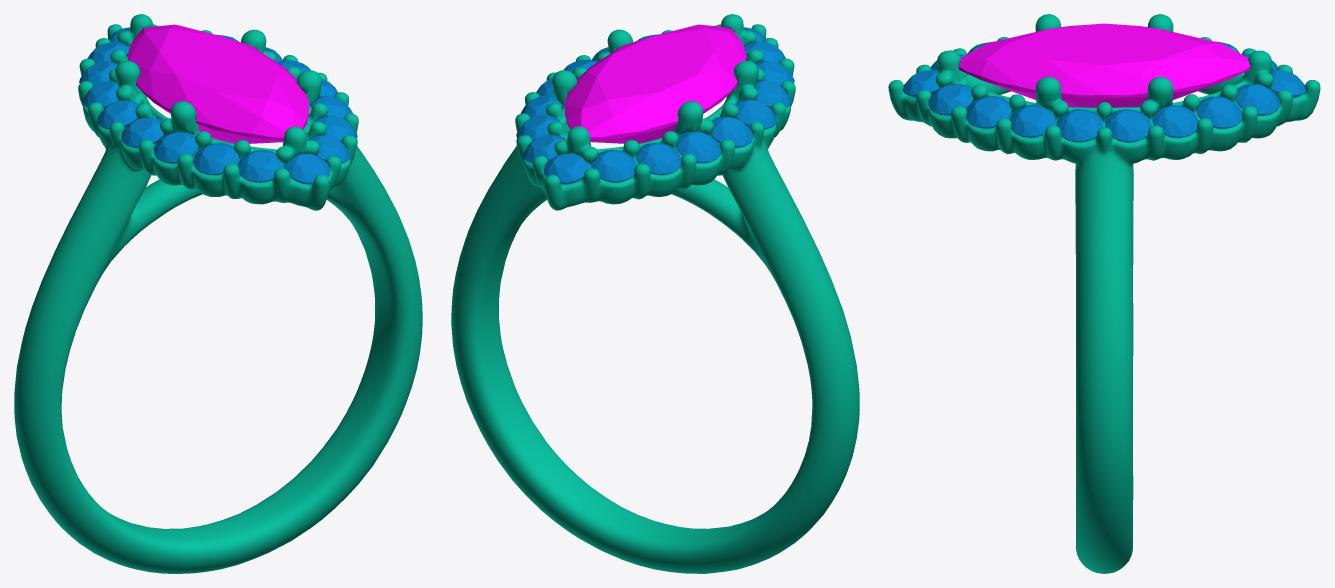
File: BE1BD12R2_MQ_200ct_RENDER.glb
3 renders of one model, left to right at view 1: azimuth 30°, elevation 25°; view 2: azimuth 150°, elevation 25°; view 3: azimuth 270°, elevation 25°, orthographic.
Visible parts, largest first — view 1: Metal 01, CS_Diamond_Marquise, Diamond_Round_Gem_HD.007, Diamond_Round_Gem_HD.006, Diamond_Round_Gem_HD.005, Diamond_Round_Gem_HD.016, Diamond_Round_Gem_HD.004, Diamond_Round_Gem_HD.003, Diamond_Round_Gem_HD.008, Diamond_Round_Gem_HD.002, Diamond_Round_Gem_HD.009, Diamond_Round_Gem_HD.001; view 2: Metal 01, CS_Diamond_Marquise, Diamond_Round_Gem_HD, Diamond_Round_Gem_HD.001, Diamond_Round_Gem_HD.002, Diamond_Round_Gem_HD.017, Diamond_Round_Gem_HD.003, Diamond_Round_Gem_HD.004, Diamond_Round_Gem_HD.015, Diamond_Round_Gem_HD.005, Diamond_Round_Gem_HD.014, Diamond_Round_Gem_HD.006 (+1 smaller); view 3: Metal 01, CS_Diamond_Marquise, Diamond_Round_Gem_HD.011, Diamond_Round_Gem_HD.012, Diamond_Round_Gem_HD.010, Diamond_Round_Gem_HD.013, Diamond_Round_Gem_HD.009, Diamond_Round_Gem_HD.014, Diamond_Round_Gem_HD.008, Diamond_Round_Gem_HD.015, Diamond_Round_Gem_HD.016, Diamond_Round_Gem_HD.017.
Boxes of the visible parts, x1=… form: Metal 01: x1=14, y1=14, x2=422, y2=573; CS_Diamond_Marquise: x1=128, y1=24, x2=308, y2=143; Diamond_Round_Gem_HD.007: x1=237, y1=150, x2=283, y2=182; Diamond_Round_Gem_HD.006: x1=193, y1=143, x2=238, y2=175; Diamond_Round_Gem_HD.005: x1=154, y1=132, x2=198, y2=163; Diamond_Round_Gem_HD.016: x1=284, y1=153, x2=330, y2=184; Diamond_Round_Gem_HD.004: x1=121, y1=117, x2=163, y2=148; Diamond_Round_Gem_HD.003: x1=97, y1=100, x2=139, y2=129; Diamond_Round_Gem_HD.008: x1=307, y1=135, x2=350, y2=163; Diamond_Round_Gem_HD.002: x1=83, y1=81, x2=118, y2=108; Diamond_Round_Gem_HD.009: x1=314, y1=115, x2=357, y2=141; Diamond_Round_Gem_HD.001: x1=79, y1=61, x2=117, y2=86; Metal 01: x1=451, y1=14, x2=859, y2=573; CS_Diamond_Marquise: x1=565, y1=24, x2=745, y2=143; Diamond_Round_Gem_HD: x1=591, y1=150, x2=636, y2=182; Diamond_Round_Gem_HD.001: x1=636, y1=142, x2=681, y2=175; Diamond_Round_Gem_HD.002: x1=676, y1=131, x2=720, y2=163; Diamond_Round_Gem_HD.017: x1=543, y1=153, x2=589, y2=184; Diamond_Round_Gem_HD.003: x1=711, y1=116, x2=753, y2=147; Diamond_Round_Gem_HD.004: x1=734, y1=99, x2=776, y2=129; Diamond_Round_Gem_HD.015: x1=523, y1=134, x2=566, y2=162; Diamond_Round_Gem_HD.005: x1=755, y1=80, x2=790, y2=107; Diamond_Round_Gem_HD.014: x1=516, y1=115, x2=560, y2=140; Diamond_Round_Gem_HD.006: x1=755, y1=61, x2=794, y2=85; Metal 01: x1=888, y1=14, x2=1320, y2=573; CS_Diamond_Marquise: x1=958, y1=23, x2=1250, y2=107; Diamond_Round_Gem_HD.011: x1=1056, y1=109, x2=1102, y2=142; Diamond_Round_Gem_HD.012: x1=1105, y1=109, x2=1151, y2=142; Diamond_Round_Gem_HD.010: x1=1009, y1=104, x2=1055, y2=137; Diamond_Round_Gem_HD.013: x1=1152, y1=105, x2=1198, y2=137; Diamond_Round_Gem_HD.009: x1=966, y1=96, x2=1011, y2=128; Diamond_Round_Gem_HD.014: x1=1196, y1=96, x2=1242, y2=128; Diamond_Round_Gem_HD.008: x1=928, y1=83, x2=973, y2=115; Diamond_Round_Gem_HD.015: x1=1235, y1=84, x2=1279, y2=115; Diamond_Round_Gem_HD.016: x1=903, y1=70, x2=938, y2=97; Diamond_Round_Gem_HD.017: x1=1270, y1=70, x2=1305, y2=97.
Size of the model in its own units: 20.02 by 23.98 by 18.52.
